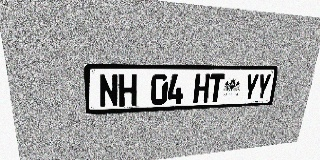0: (150, 74, 168, 105)
4: (167, 74, 185, 104)
H: (119, 74, 137, 107), (193, 74, 210, 103)
N: (98, 74, 118, 108)
T: (208, 74, 225, 102)
Y: (255, 74, 272, 100), (243, 74, 259, 101)
